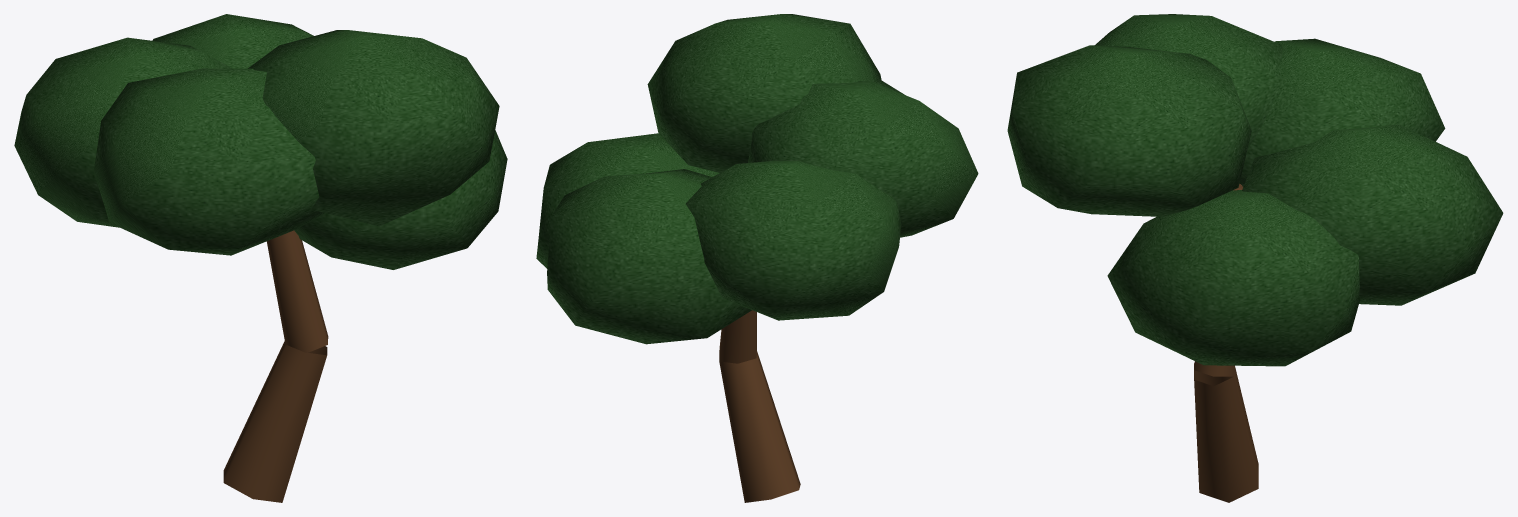
File: ambient_tree_8.glb
The picture shows the model from 3 angles, left to right: view 1: azimuth 30°, elevation 25°; view 2: azimuth 150°, elevation 25°; view 3: azimuth 270°, elevation 25°; orthographic projection. The views are drawn at different scales.
Parts seen in each view (by area): view 1: ambient_tree_8; view 2: ambient_tree_8; view 3: ambient_tree_8.
Part boxes in pixels (<box>): ambient_tree_8: <box>14,14,507,502</box>; ambient_tree_8: <box>536,14,978,502</box>; ambient_tree_8: <box>1007,14,1503,502</box>.
Bounding box in the file's own units: 7.67 × 8.43 × 8.2.
Materials: 2 (2 with a texture image).
